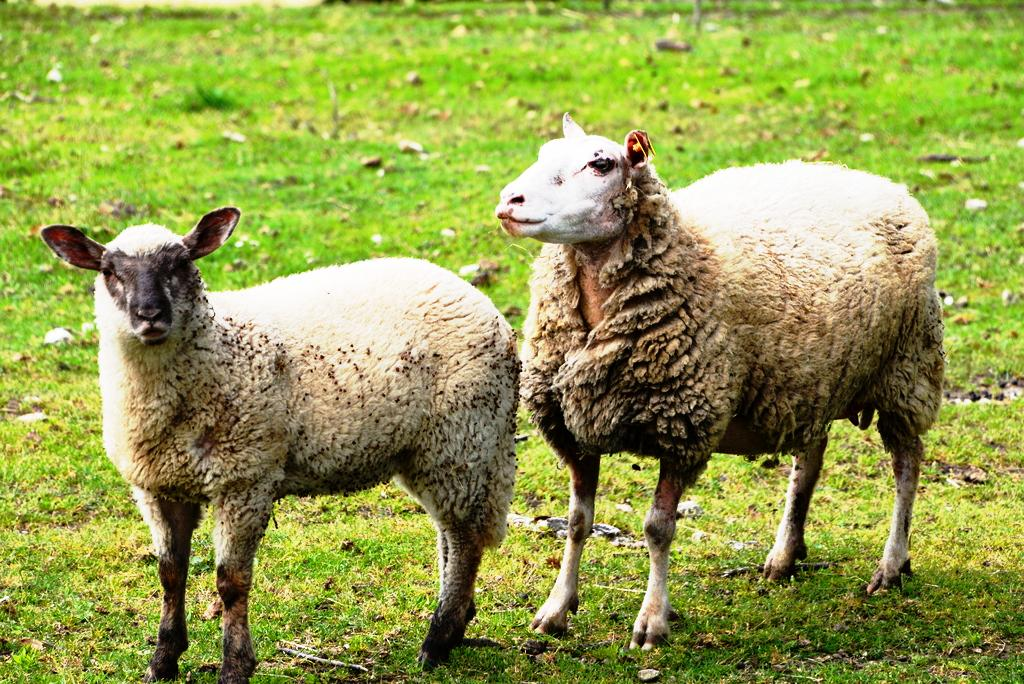Sheep: (492, 112, 948, 658), (42, 208, 519, 684)
